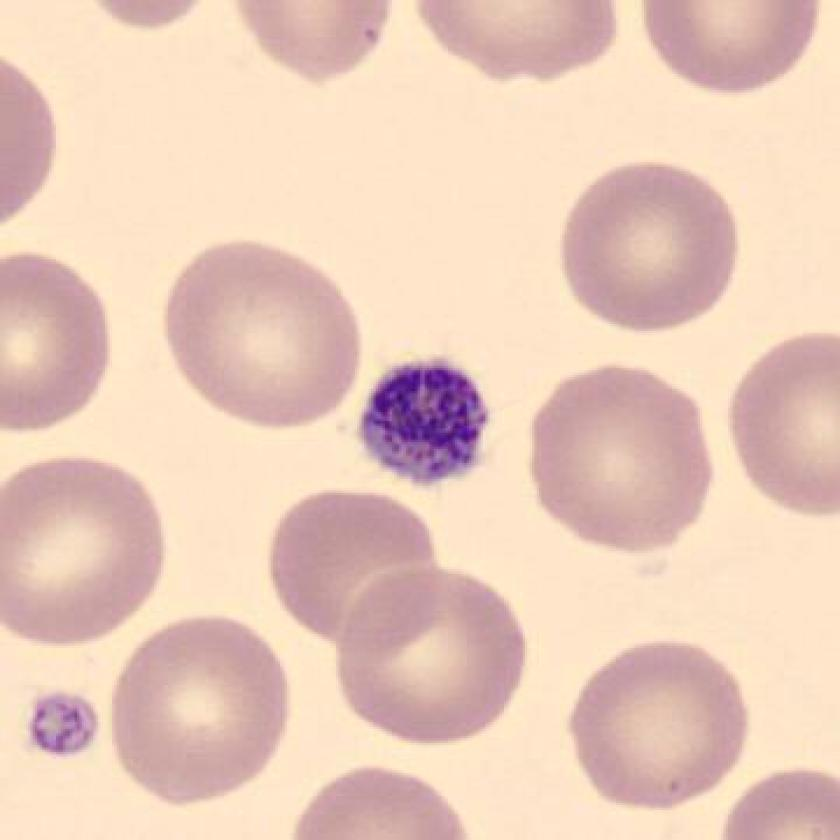platelets: (351, 353, 498, 496), (20, 686, 108, 765)
